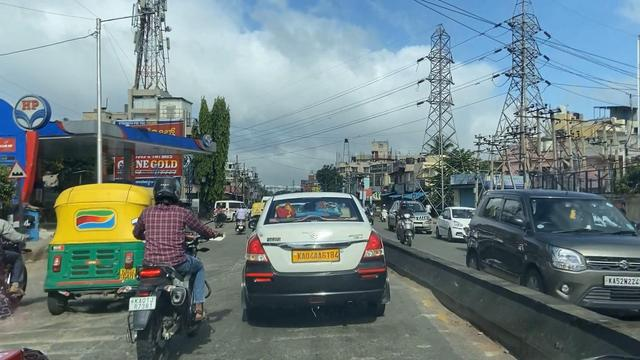LMV: (243, 195, 389, 321)
RoadDamages: (123, 173, 208, 360), (231, 330, 372, 359), (26, 319, 113, 354)
